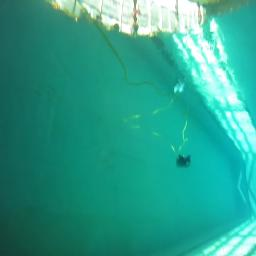back: (176, 154, 192, 168)
